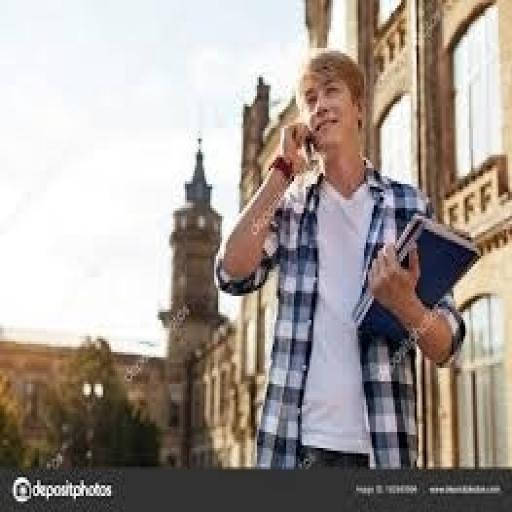calling: (212, 45, 467, 472)
